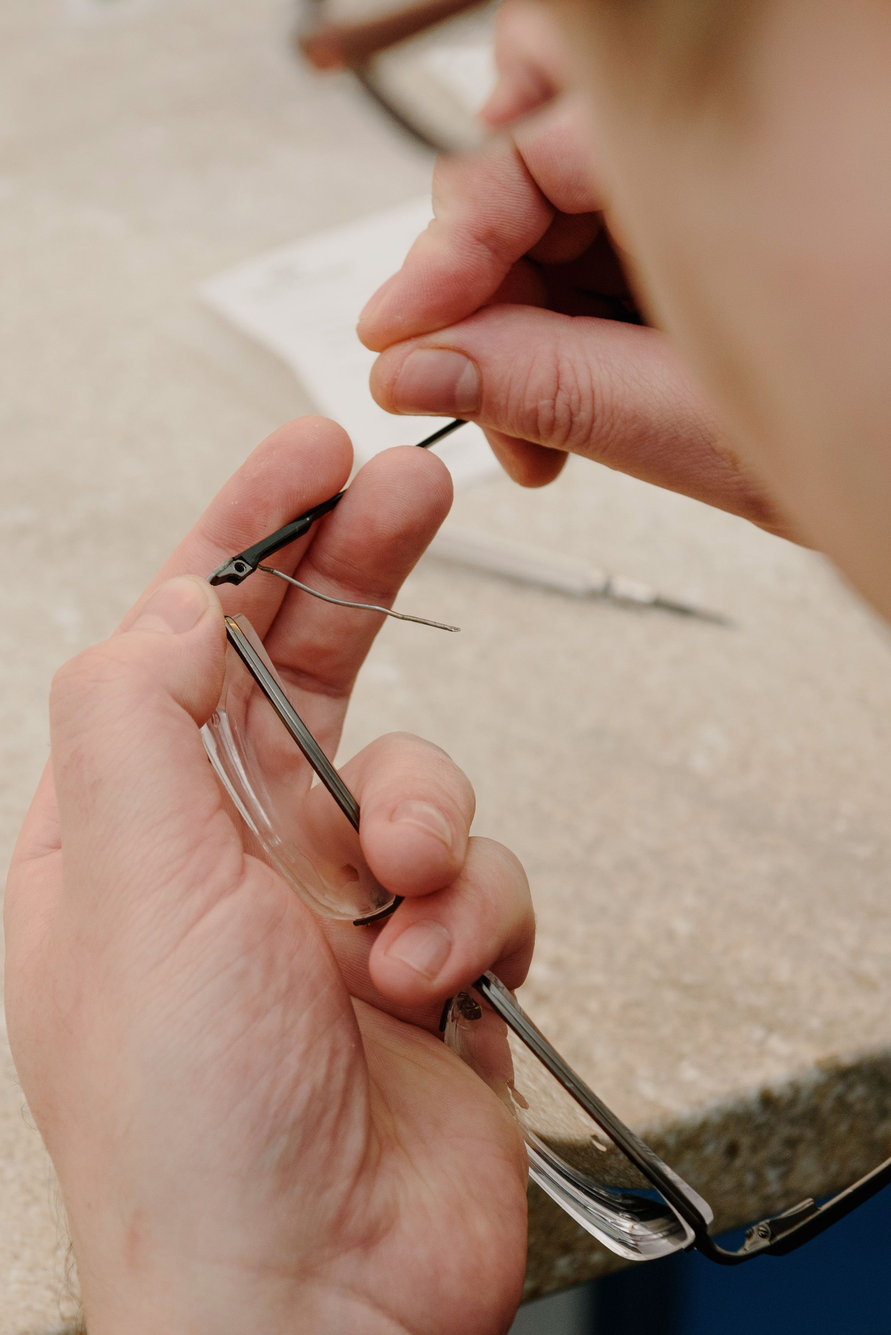glasses-vision-off: (183, 418, 891, 1277)
hands: (13, 374, 527, 1335), (353, 153, 748, 539)
